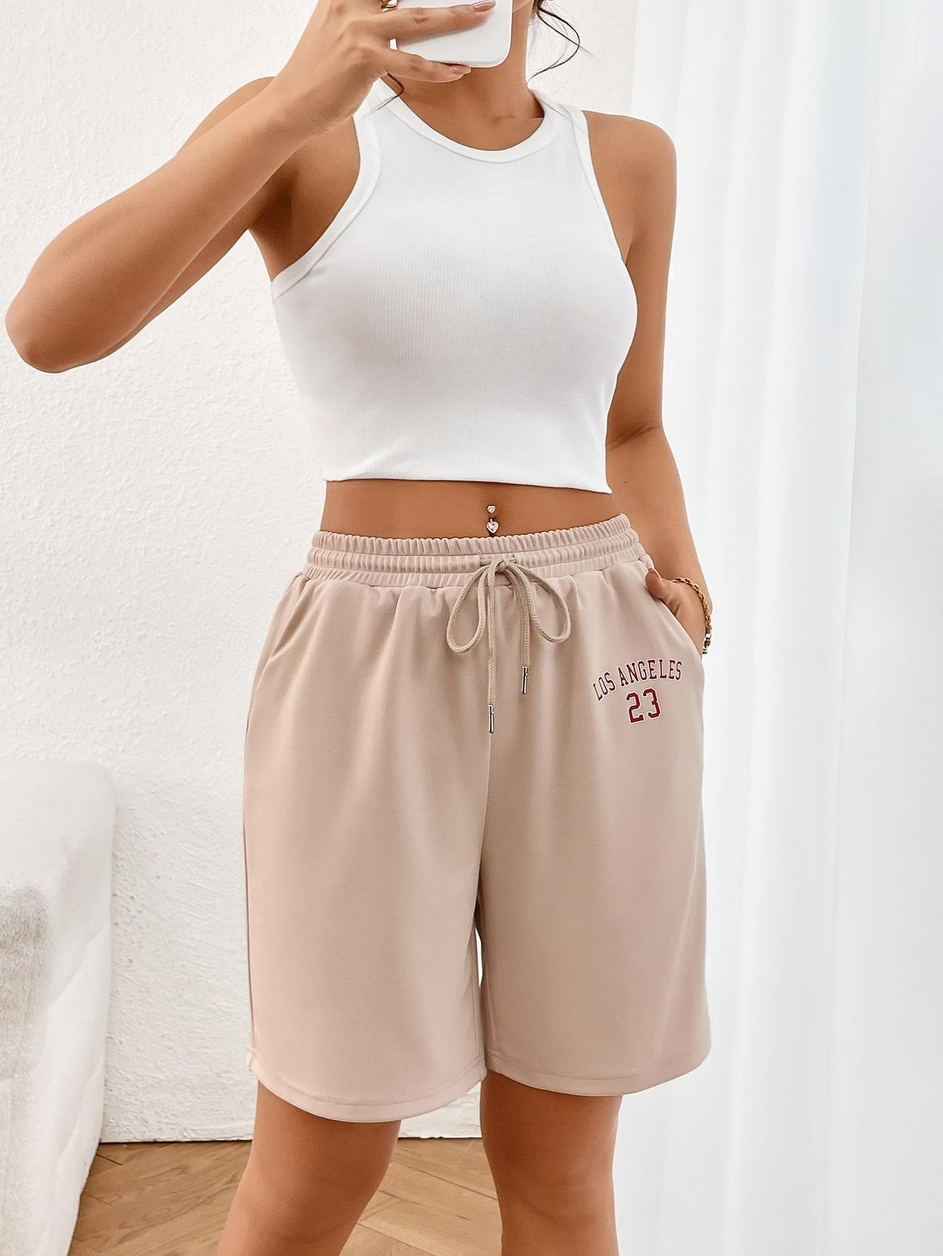Shorts: (231, 525, 723, 1131)
vest: (259, 51, 643, 496)
